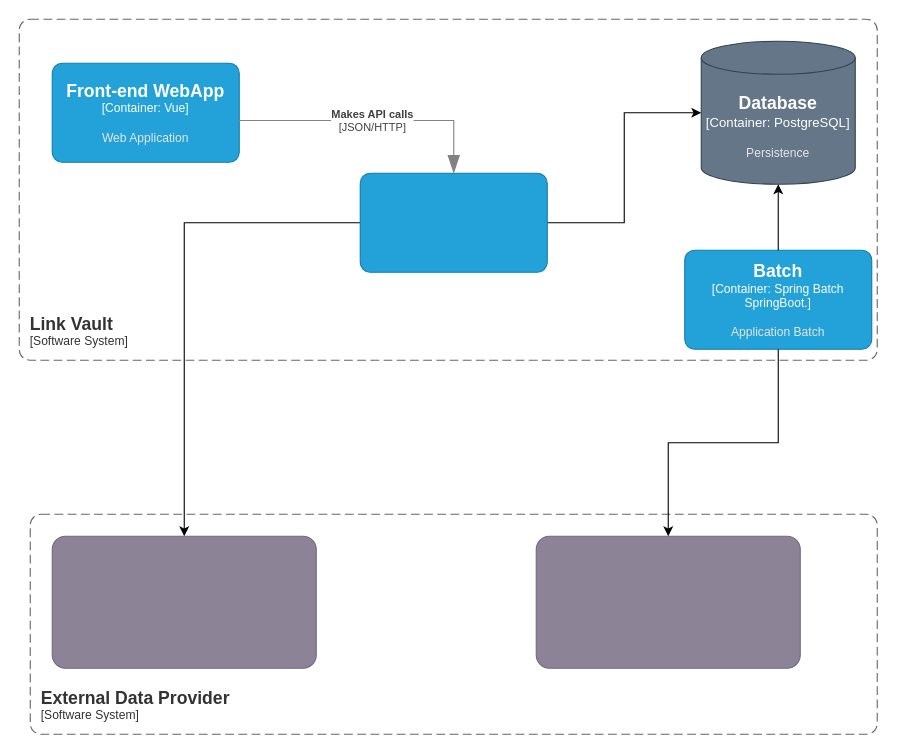
Image size: 897x754. Some labels were removed from this diagram. The centre of each missing label's shape, as x and y in pixels:
"Back-End API [Container: SpringBoot.] Application Back-Office" belongs at pixel 453 222.
"Data API provider [Software System] Data Provider API" belongs at pixel 183 601.
"Data Provider Bucket [Software System] Bucket" belongs at pixel 667 601.
